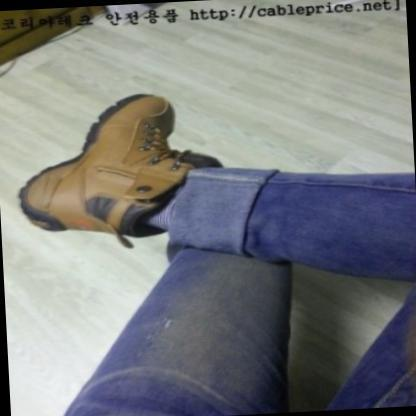safety-shoe: (12, 91, 205, 261)
